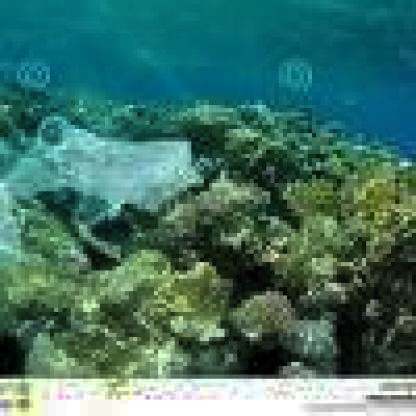pbag: (4, 112, 204, 266)
